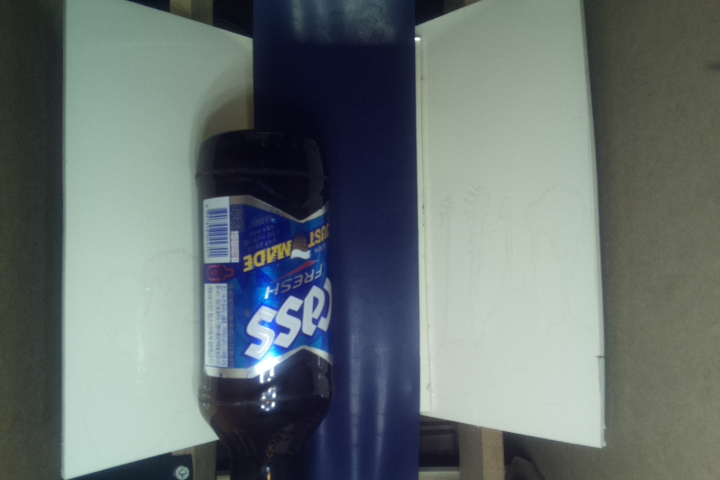makju: (198, 129, 334, 480)
